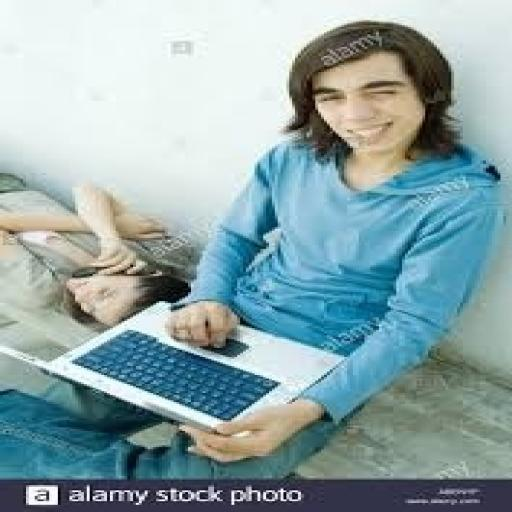using_laptop: (0, 298, 350, 434)
